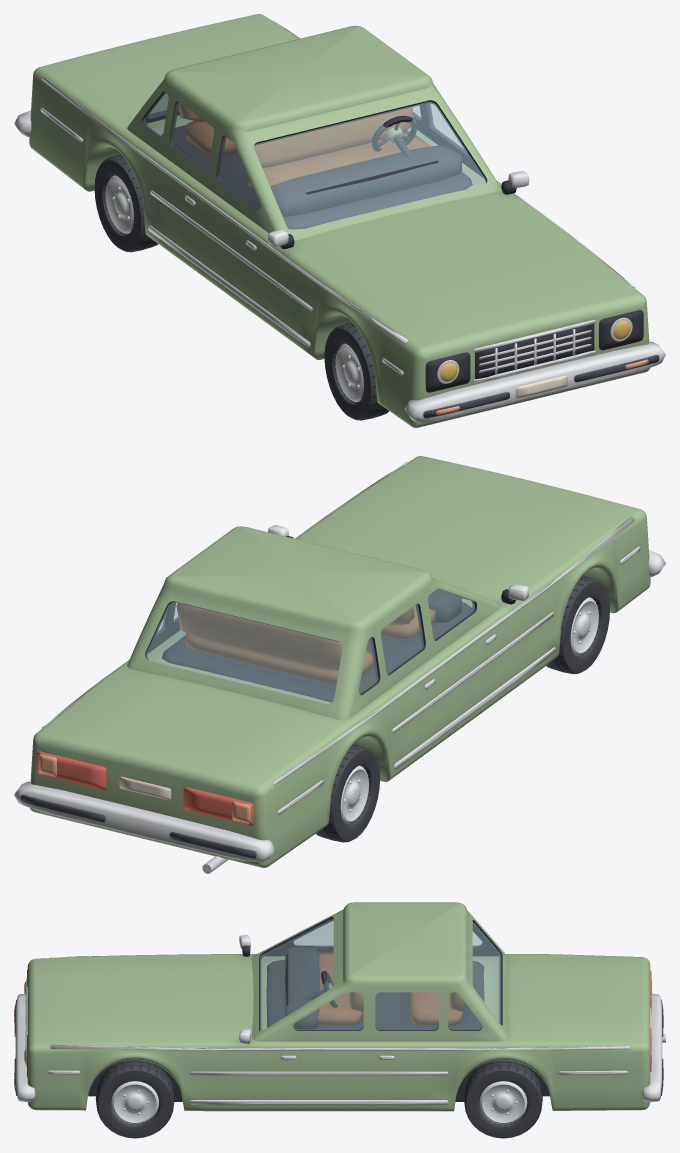
The model's file is 1970s-sedan.glb.
The picture shows the model from 3 angles, top to bottom: view 1: azimuth 30°, elevation 25°; view 2: azimuth 150°, elevation 25°; view 3: azimuth 270°, elevation 25°; orthographic projection. The views are drawn at different scales.
Visible parts, largest first — view 1: 1970s-sedan_body, 1970s-sedan_windows, 1970s-sedan_wheel_fr, 1970s-sedan_wheel_rr; view 2: 1970s-sedan_body, 1970s-sedan_windows, 1970s-sedan_wheel_rr, 1970s-sedan_wheel_fr; view 3: 1970s-sedan_body, 1970s-sedan_windows, 1970s-sedan_wheel_fl, 1970s-sedan_wheel_rl.
Boxes of the visible parts, box(x1,y1,x2,y2) form: 1970s-sedan_body: box(14, 14, 665, 427); 1970s-sedan_windows: box(144, 92, 486, 230); 1970s-sedan_wheel_fr: box(324, 322, 388, 420); 1970s-sedan_wheel_rr: box(94, 154, 157, 252); 1970s-sedan_body: box(14, 456, 665, 873); 1970s-sedan_windows: box(146, 589, 474, 703); 1970s-sedan_wheel_rr: box(316, 744, 379, 842); 1970s-sedan_wheel_fr: box(546, 576, 609, 674); 1970s-sedan_body: box(14, 902, 665, 1111); 1970s-sedan_windows: box(260, 919, 500, 1030); 1970s-sedan_wheel_fl: box(95, 1060, 174, 1138); 1970s-sedan_wheel_rl: box(464, 1060, 542, 1138).
Bounding box in the file's own units: 1.99 × 1.42 × 5.45.
Materials: 18 (5 with a texture image).
